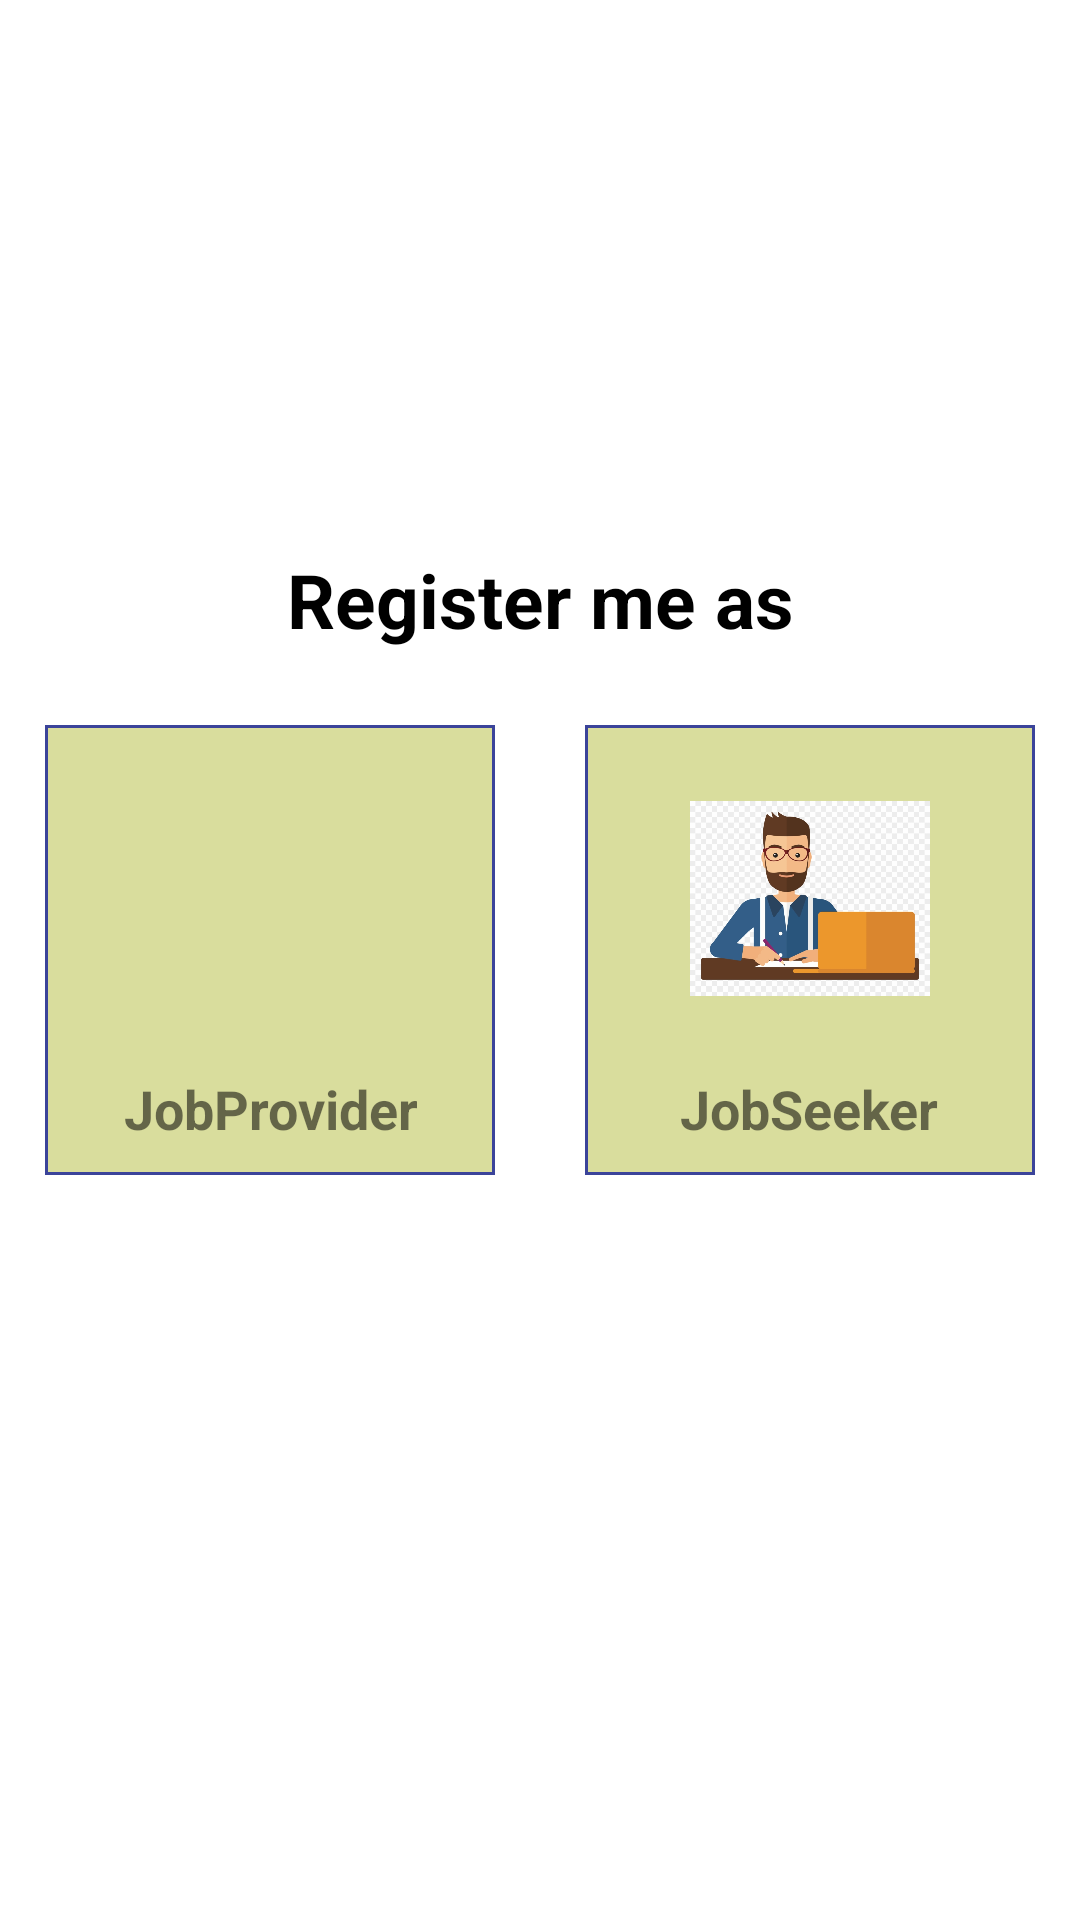

Screen size 1080×1920. Icon name, then its box in pixels as (x1, y1, x2, y2):
man: (690, 801, 930, 996)
